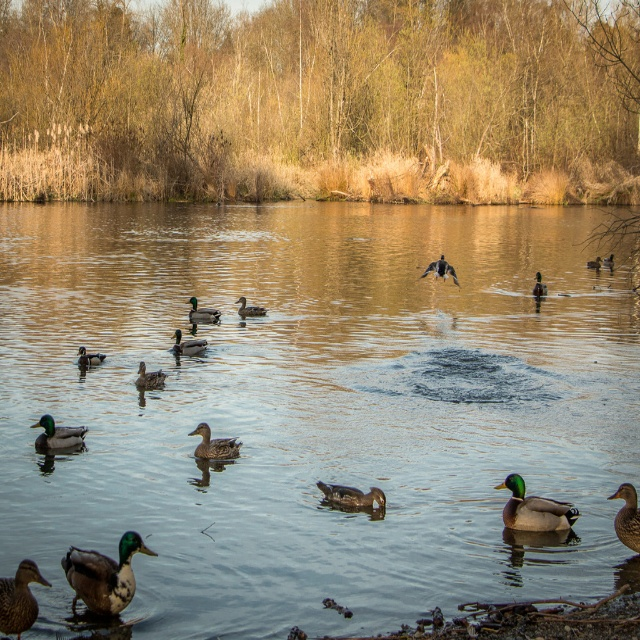Duck: (64, 532, 160, 623), (492, 472, 582, 533), (0, 556, 54, 639), (315, 476, 386, 514), (606, 483, 640, 561), (188, 422, 237, 456), (33, 418, 89, 446), (135, 358, 169, 393), (169, 330, 206, 362), (423, 252, 459, 284), (187, 298, 221, 320), (235, 296, 270, 316), (533, 271, 550, 298), (75, 348, 102, 364)
